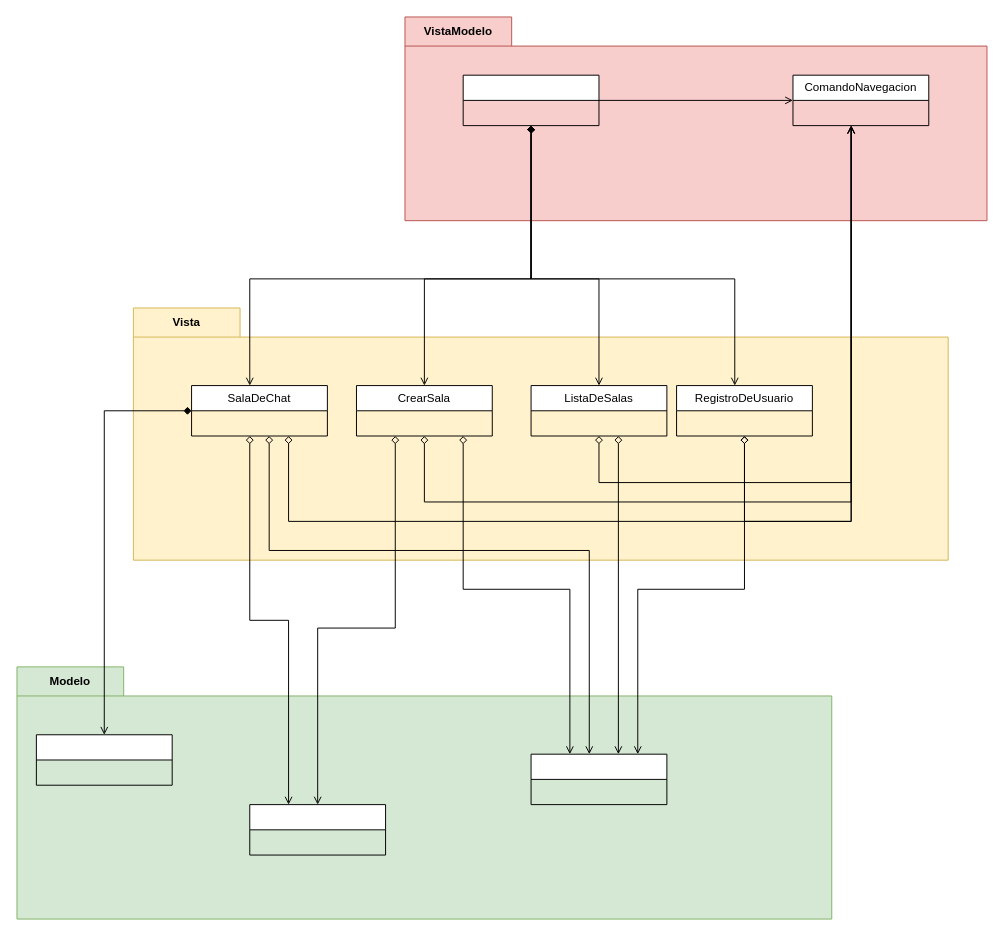
This 1004x936 diagram has some shape labels left out. The shapes that lost their labels are listed below. From the top down, each one's centre as x and y in pixels, then its label:
At point 530,100: "MainWindowVM".
At point 103,759: "Mensaje".
At point 598,779: "Usuario".
At point 317,829: "Sala".
